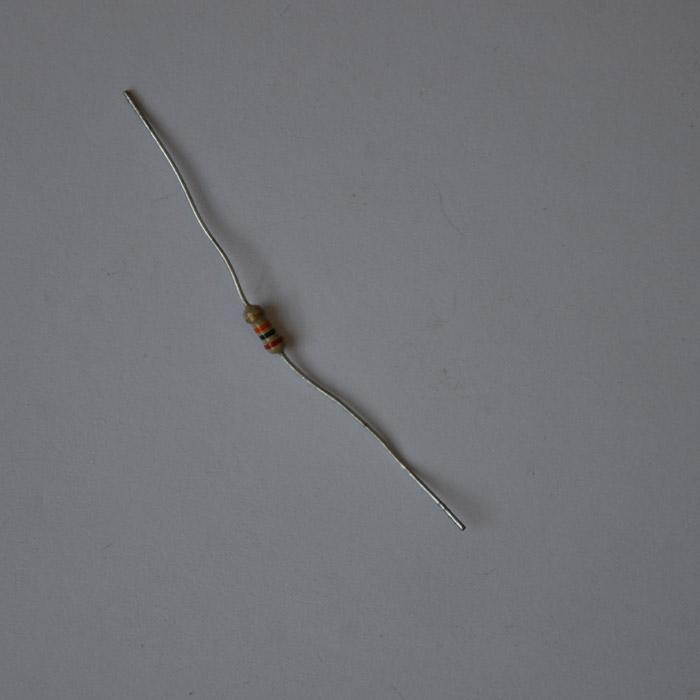resistor: (243, 303, 283, 354)
